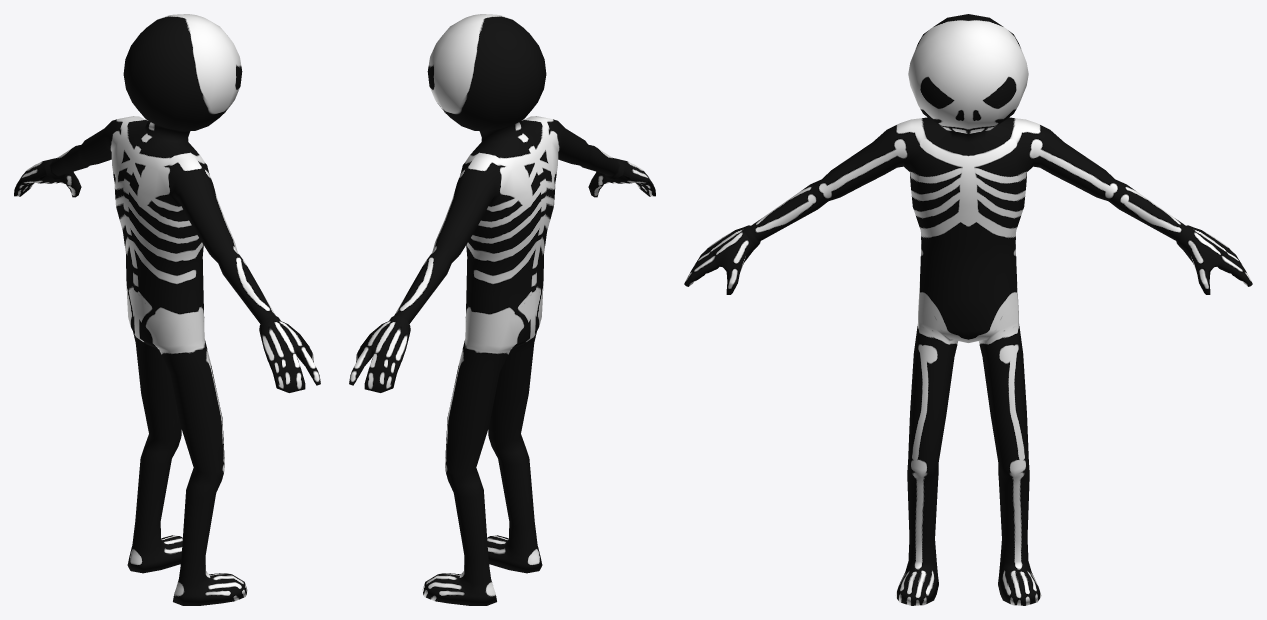
Rendered from Skeleton_Costume.glb.
3 views of the same model, side by side, from view 1: azimuth 30°, elevation 25°; view 2: azimuth 150°, elevation 25°; view 3: azimuth 270°, elevation 25° (orthographic).
Parts seen in each view (by area): view 1: mesh_char_134; view 2: mesh_char_134; view 3: mesh_char_134.
Boxes of the visible parts, <box> form: mesh_char_134: <box>14,14,320,605</box>; mesh_char_134: <box>349,14,655,605</box>; mesh_char_134: <box>684,14,1252,605</box>.
Size of the model in its own units: 0.9892 by 4.86 by 4.4.
Materials: 1 (1 with a texture image).
